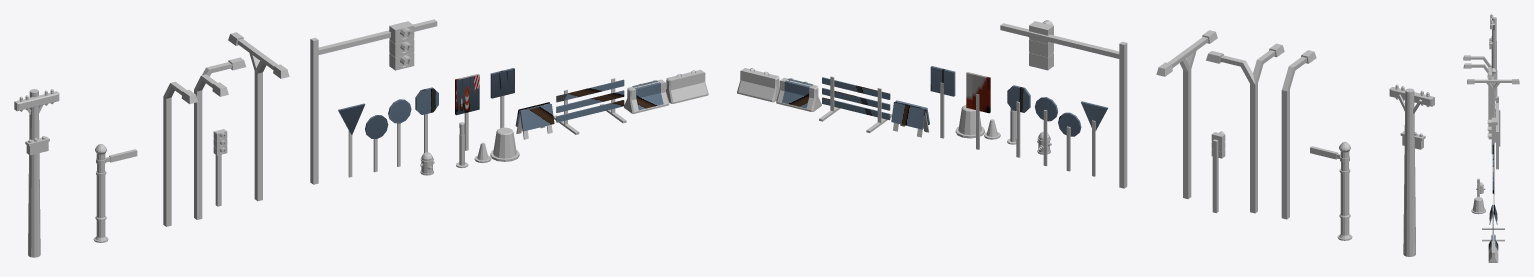
Rendered from señales_trafico.fbx.
3 views of the same model, side by side, from view 1: azimuth 30°, elevation 25°; view 2: azimuth 150°, elevation 25°; view 3: azimuth 270°, elevation 25° (orthographic). The views are drawn at different scales.
Visible parts, largest first — view 1: SM_exterior_trafico_semaforo_grande, SM_exterior_trafico_poste_electrico, SM_exterior_trafico_farola_paralelo, SM_exterior_trafico_farola_esquina, SM_exterior_trafico_valla_grande, SM_exterior_trafico_farola, SM_exterior_trafico_poste_direcciones, SM_exterior_trafico_barrera1, SM_exterior_trafico_barrera2, SM_exterior_trafico_senal_speed, SM_exterior_trafico_valla_pequena, SM_exterior_trafico_senal_parking (+6 smaller); view 2: SM_exterior_trafico_semaforo_grande, SM_exterior_trafico_poste_electrico, SM_exterior_trafico_farola_paralelo, SM_exterior_trafico_farola_esquina, SM_exterior_trafico_valla_grande, SM_exterior_trafico_farola, SM_exterior_trafico_poste_direcciones, SM_exterior_trafico_barrera1, SM_exterior_trafico_barrera2, SM_exterior_trafico_senal_speed, SM_exterior_trafico_valla_pequena, SM_exterior_trafico_senal_parking (+6 smaller); view 3: SM_exterior_trafico_farola_paralelo, SM_exterior_trafico_poste_electrico, SM_exterior_trafico_semaforo_grande, SM_exterior_trafico_farola_esquina, SM_exterior_trafico_cono_grande, SM_exterior_trafico_farola, SM_exterior_trafico_barrera2, SM_exterior_trafico_valla_grande, SM_exterior_trafico_barrera1, SM_exterior_trafico_valla_pequena, SM_exterior_trafico_poste_direcciones, SM_exterior_trafico_semaforo (+3 smaller).
Part boxes in pixels (x1,y1,x2,y2): SM_exterior_trafico_semaforo_grande: (310, 19, 437, 184); SM_exterior_trafico_poste_electrico: (14, 89, 59, 257); SM_exterior_trafico_farola_paralelo: (228, 32, 289, 201); SM_exterior_trafico_farola_esquina: (194, 57, 246, 219); SM_exterior_trafico_valla_grande: (553, 78, 626, 134); SM_exterior_trafico_farola: (163, 81, 197, 226); SM_exterior_trafico_poste_direcciones: (93, 144, 137, 242); SM_exterior_trafico_barrera1: (624, 79, 669, 113); SM_exterior_trafico_barrera2: (666, 69, 708, 103); SM_exterior_trafico_senal_speed: (455, 74, 479, 150); SM_exterior_trafico_valla_pequena: (515, 102, 554, 139); SM_exterior_trafico_senal_parking: (490, 68, 514, 128); SM_exterior_trafico_semaforo_grande: (1000, 20, 1127, 188); SM_exterior_trafico_poste_electrico: (1389, 84, 1434, 256); SM_exterior_trafico_farola_paralelo: (1156, 30, 1217, 198); SM_exterior_trafico_farola_esquina: (1206, 43, 1284, 213); SM_exterior_trafico_valla_grande: (819, 76, 892, 132); SM_exterior_trafico_farola: (1281, 50, 1316, 219); SM_exterior_trafico_poste_direcciones: (1310, 141, 1352, 240); SM_exterior_trafico_barrera1: (776, 77, 821, 111); SM_exterior_trafico_barrera2: (737, 68, 779, 102); SM_exterior_trafico_senal_speed: (966, 72, 990, 149); SM_exterior_trafico_valla_pequena: (891, 100, 929, 137); SM_exterior_trafico_senal_parking: (930, 66, 955, 138); SM_exterior_trafico_farola_paralelo: (1467, 79, 1519, 154); SM_exterior_trafico_poste_electrico: (1489, 14, 1497, 100); SM_exterior_trafico_semaforo_grande: (1487, 96, 1498, 169); SM_exterior_trafico_farola_esquina: (1463, 63, 1492, 139); SM_exterior_trafico_cono_grande: (1471, 197, 1485, 214); SM_exterior_trafico_farola: (1463, 55, 1491, 126); SM_exterior_trafico_barrera2: (1488, 243, 1498, 262); SM_exterior_trafico_valla_grande: (1482, 211, 1504, 241); SM_exterior_trafico_barrera1: (1488, 234, 1498, 252); SM_exterior_trafico_valla_pequena: (1489, 204, 1497, 224); SM_exterior_trafico_poste_direcciones: (1491, 68, 1496, 114); SM_exterior_trafico_semaforo: (1494, 107, 1500, 146).
Bounding box in the file's own units: 4036 × 919 × 572.
